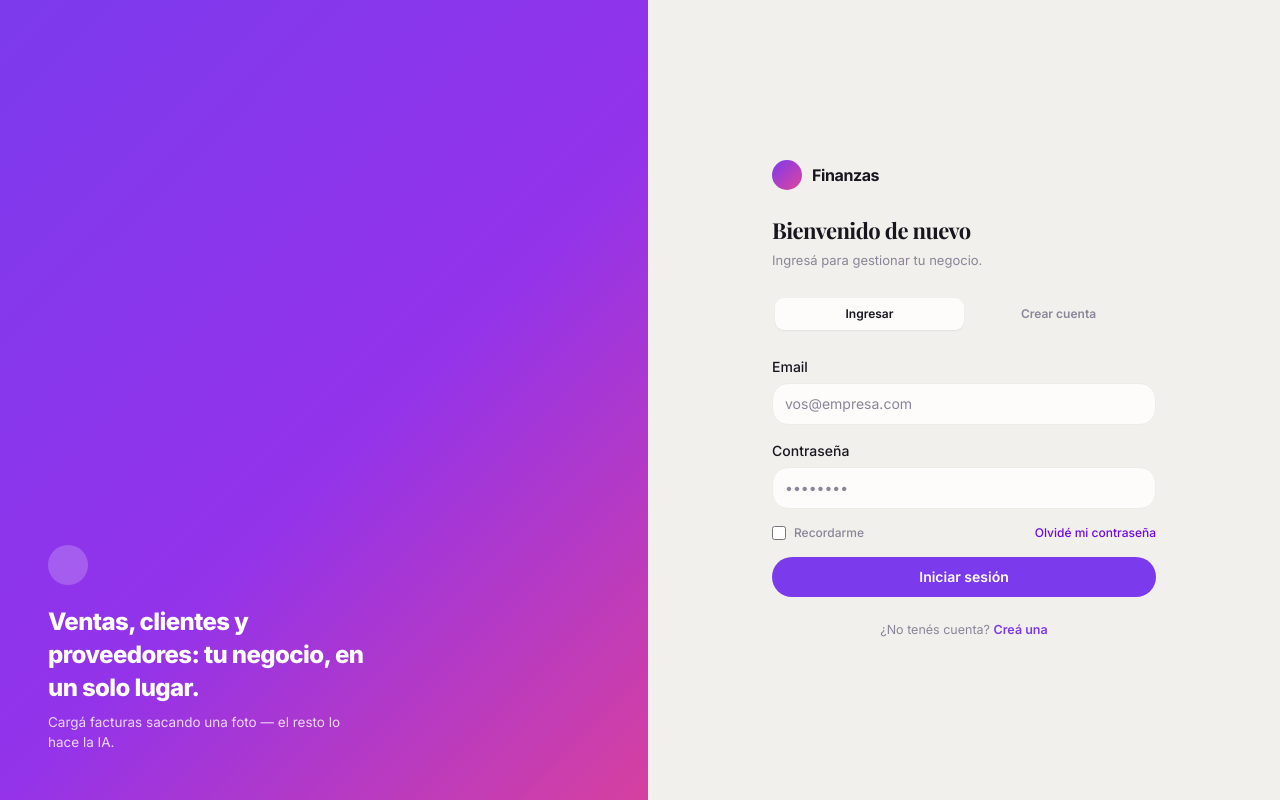
Scenario: LoginPage › shows the generic error "Credenciales inválidas" on failed login
The image size is (1280, 800).
In the field labelled "Email": (964, 404) [772, 383, 1156, 425], type "x@x.com"
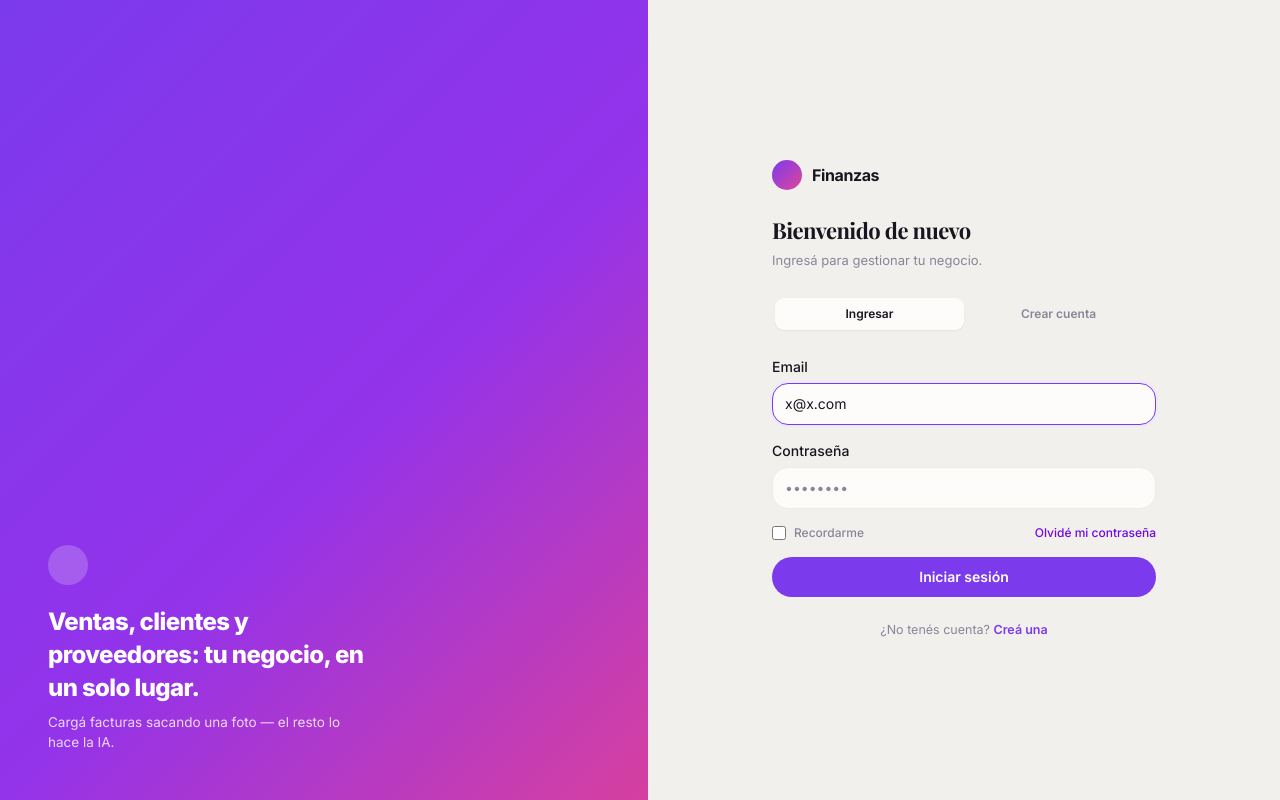
In the password field labelled "Contraseña": (964, 488) [772, 467, 1156, 509], type "wrongpassword"
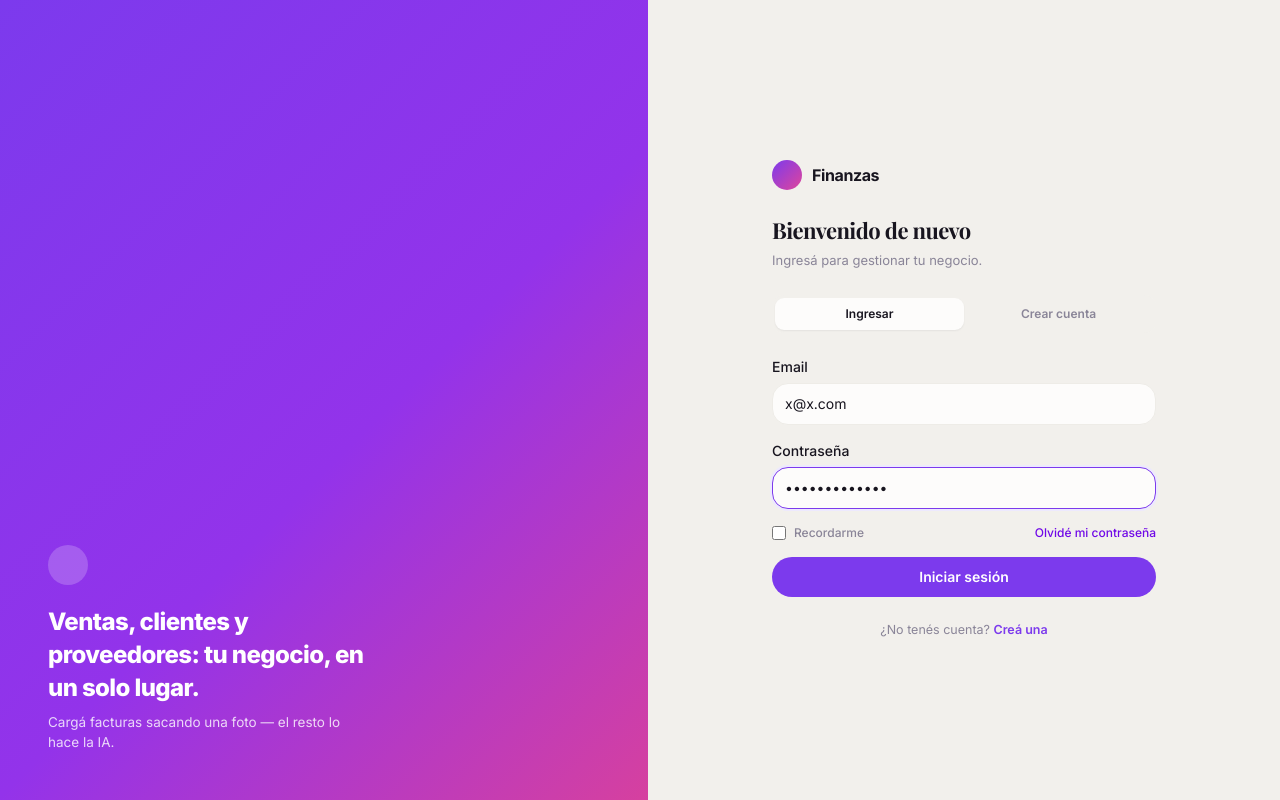
Click the button "Iniciar sesión": (964, 577) [772, 557, 1156, 597]
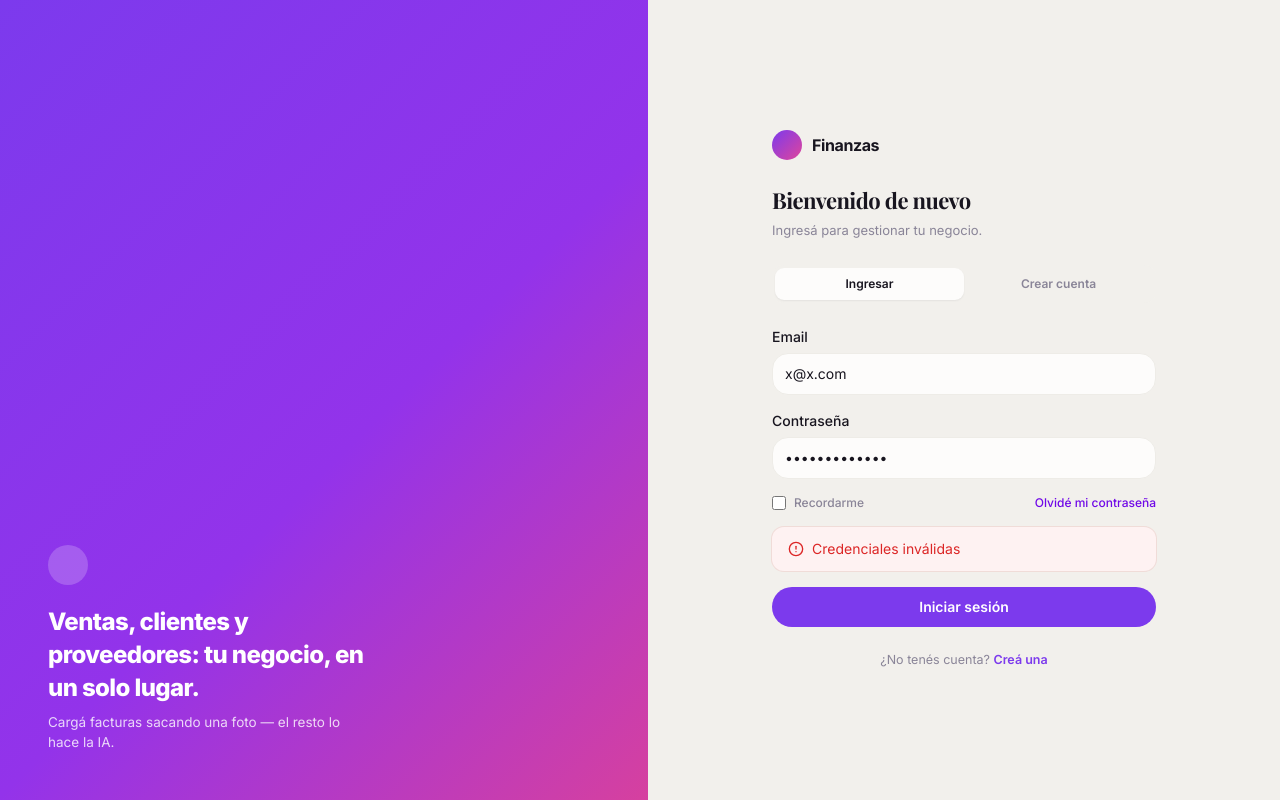
Expected: the text "Credenciales inválidas" is shown, [772, 527, 1156, 571]
